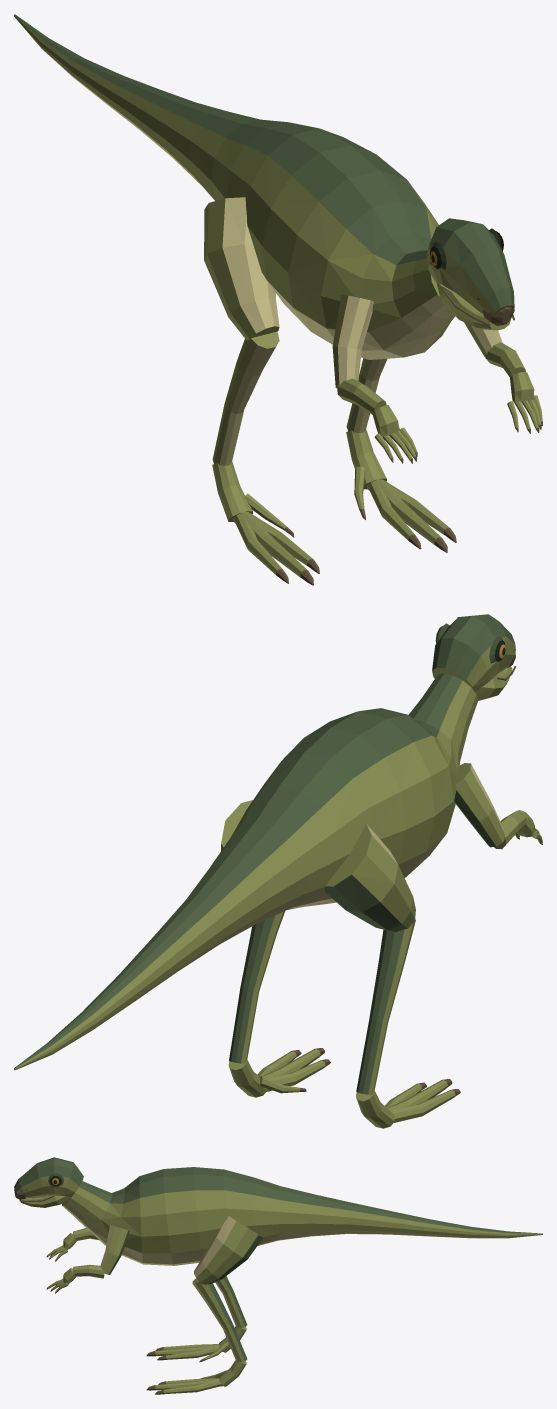
3 views of the same model, one above another, from view 1: azimuth 30°, elevation 25°; view 2: azimuth 150°, elevation 25°; view 3: azimuth 270°, elevation 25° (orthographic). The views are drawn at different scales.
Visible parts, largest first — view 1: Hypsilophodon_Export_PaletteGroups; view 2: Hypsilophodon_Export_PaletteGroups; view 3: Hypsilophodon_Export_PaletteGroups.
Boxes of the visible parts, bbox=[...] form: Hypsilophodon_Export_PaletteGroups: bbox=[14, 14, 542, 585]; Hypsilophodon_Export_PaletteGroups: bbox=[14, 614, 542, 1128]; Hypsilophodon_Export_PaletteGroups: bbox=[14, 1157, 542, 1394].
Bounding box in the file's own units: 0.4105 × 0.8964 × 2.
